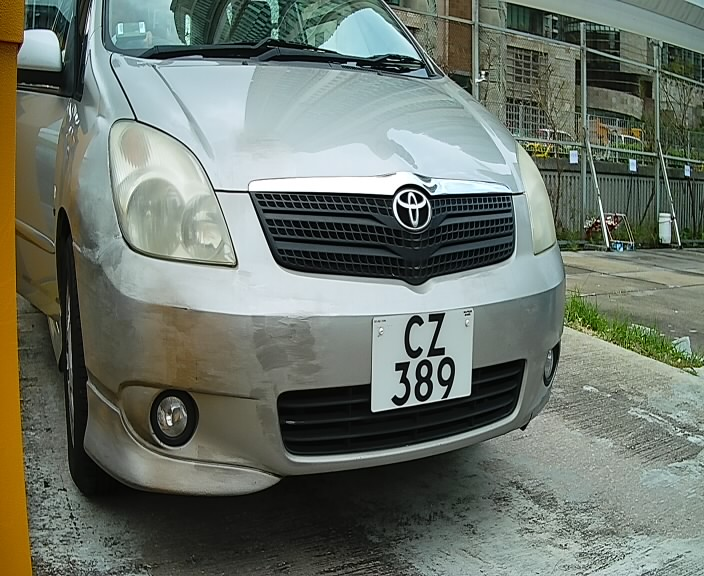Car: (34, 1, 588, 534)
License Plate: (364, 303, 484, 421)
